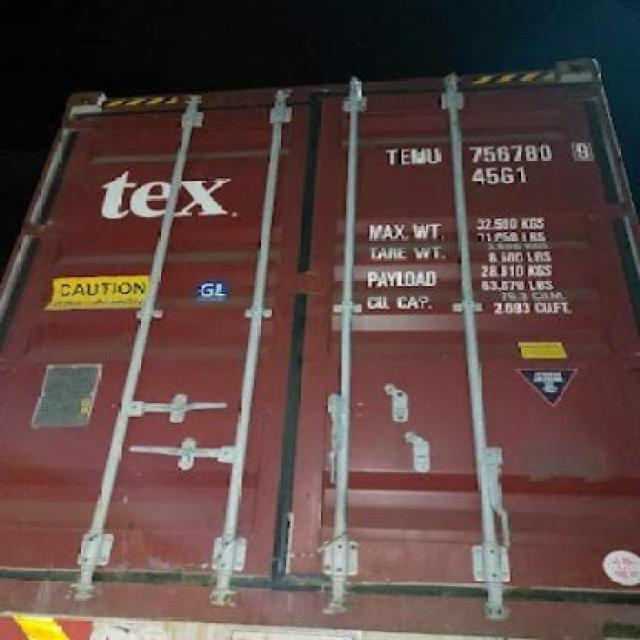ISO: (474, 164, 528, 186)
container_number: (386, 136, 586, 165)
